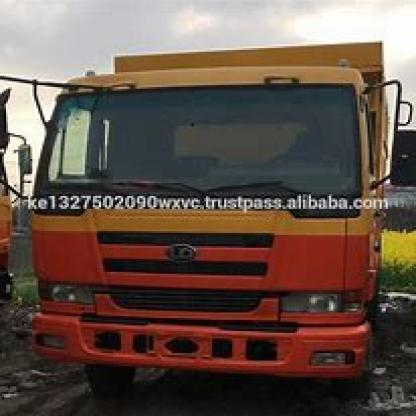dump_truck: (10, 33, 414, 383)
